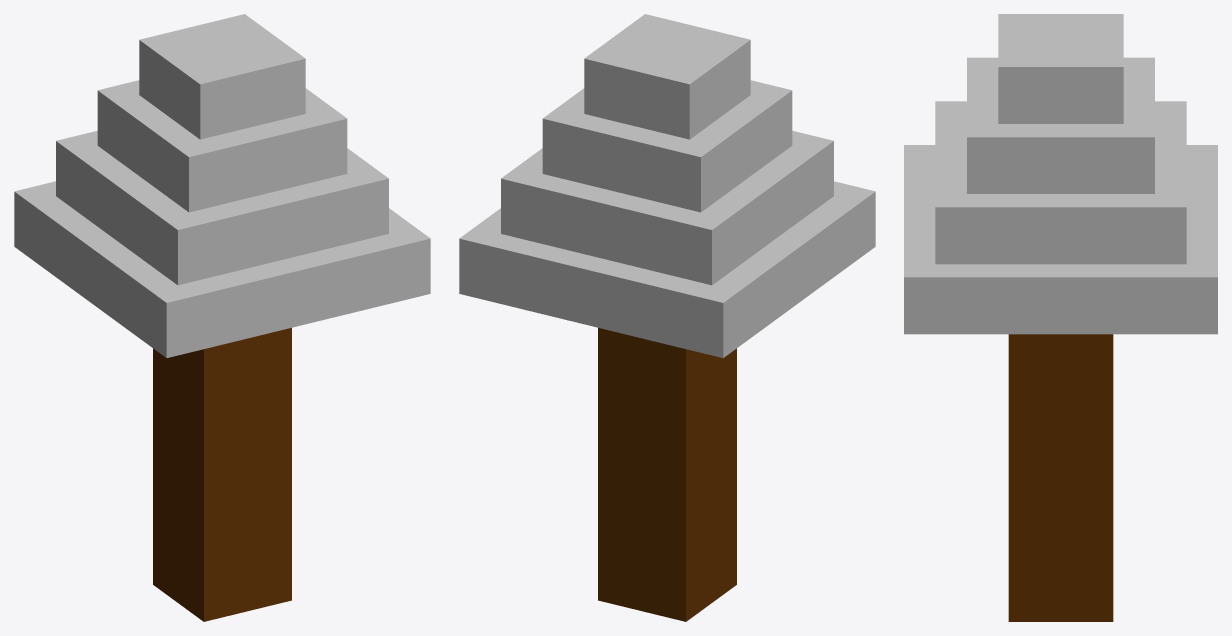
The model's file is Arboles.obj.
The picture shows the model from 3 angles, left to right: view 1: azimuth 30°, elevation 25°; view 2: azimuth 150°, elevation 25°; view 3: azimuth 270°, elevation 25°; orthographic projection. The views are drawn at different scales.
Size of the model in its own units: 150 by 295 by 150.
